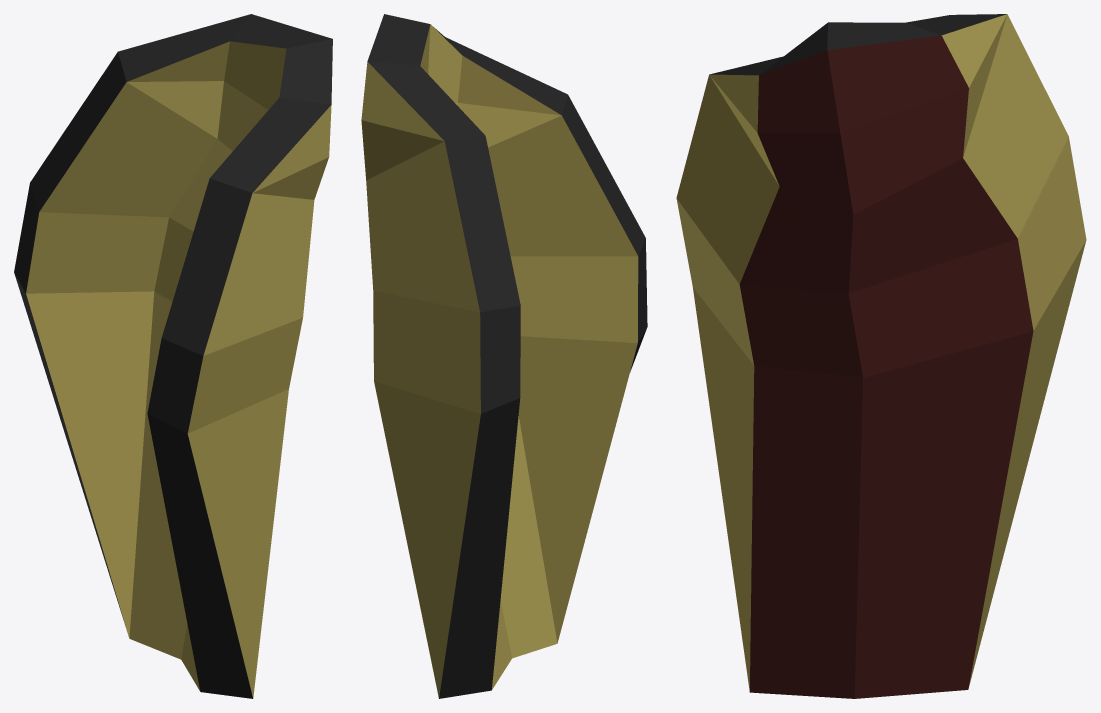
The model's file is Greaves.fbx.
The picture shows the model from 3 angles, left to right: view 1: azimuth 30°, elevation 25°; view 2: azimuth 150°, elevation 25°; view 3: azimuth 270°, elevation 25°; orthographic projection. The views are drawn at different scales.
Parts seen in each view (by area): view 1: z90; view 2: z90; view 3: z90.
Part boxes in pixels (bbox=[...]): z90: bbox=[14, 14, 332, 698]; z90: bbox=[361, 14, 647, 698]; z90: bbox=[676, 14, 1086, 698].
Size of the model in its own units: 21.33 by 56.23 by 29.51.
